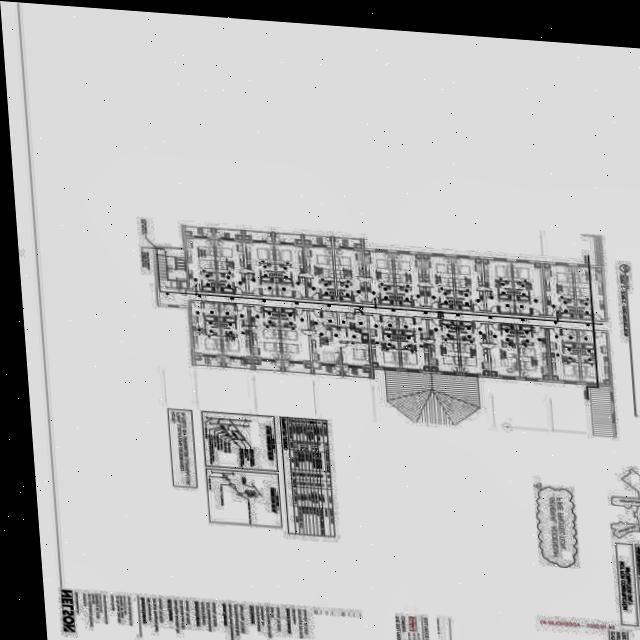room: (309, 308, 349, 366), (512, 258, 546, 316), (547, 326, 581, 384), (517, 326, 551, 382), (573, 263, 606, 320), (542, 261, 576, 316), (215, 236, 247, 294), (578, 330, 611, 386), (457, 321, 490, 377), (274, 241, 306, 298), (393, 250, 425, 307), (453, 254, 485, 311), (487, 322, 519, 379), (428, 317, 460, 374), (369, 313, 401, 370), (190, 300, 222, 357), (334, 245, 365, 303), (398, 317, 430, 373), (250, 304, 281, 361), (423, 252, 455, 307), (482, 256, 514, 311), (364, 248, 395, 303), (280, 308, 311, 363), (186, 235, 217, 289), (245, 240, 276, 294), (305, 244, 336, 298), (220, 304, 251, 358), (339, 341, 371, 364), (338, 311, 369, 327), (320, 279, 336, 301), (380, 283, 396, 305), (498, 278, 514, 300), (579, 342, 595, 364), (457, 319, 473, 341), (383, 327, 399, 349), (346, 327, 369, 342), (218, 272, 234, 293), (221, 316, 237, 337), (260, 261, 276, 282), (276, 262, 292, 283), (279, 306, 295, 327), (263, 305, 279, 326), (396, 285, 412, 306), (439, 288, 455, 309), (514, 280, 530, 301), (560, 297, 576, 318), (576, 298, 592, 319), (563, 341, 579, 362), (517, 324, 533, 345), (501, 323, 517, 344), (399, 329, 415, 350), (195, 354, 223, 366), (205, 314, 220, 336), (337, 280, 352, 302), (244, 230, 273, 241), (313, 363, 342, 374), (283, 361, 312, 372), (456, 289, 471, 310), (442, 318, 457, 339), (185, 225, 213, 236), (214, 228, 242, 239), (274, 232, 302, 243), (333, 237, 361, 248), (224, 357, 252, 368), (254, 359, 282, 370), (202, 271, 217, 291), (304, 235, 332, 245), (343, 366, 371, 376), (322, 310, 339, 325), (498, 298, 516, 312), (397, 316, 415, 330), (260, 281, 277, 295), (515, 300, 532, 314), (578, 329, 595, 343), (562, 328, 579, 342), (203, 302, 220, 316), (219, 303, 236, 317), (277, 282, 293, 296), (382, 315, 398, 329)
